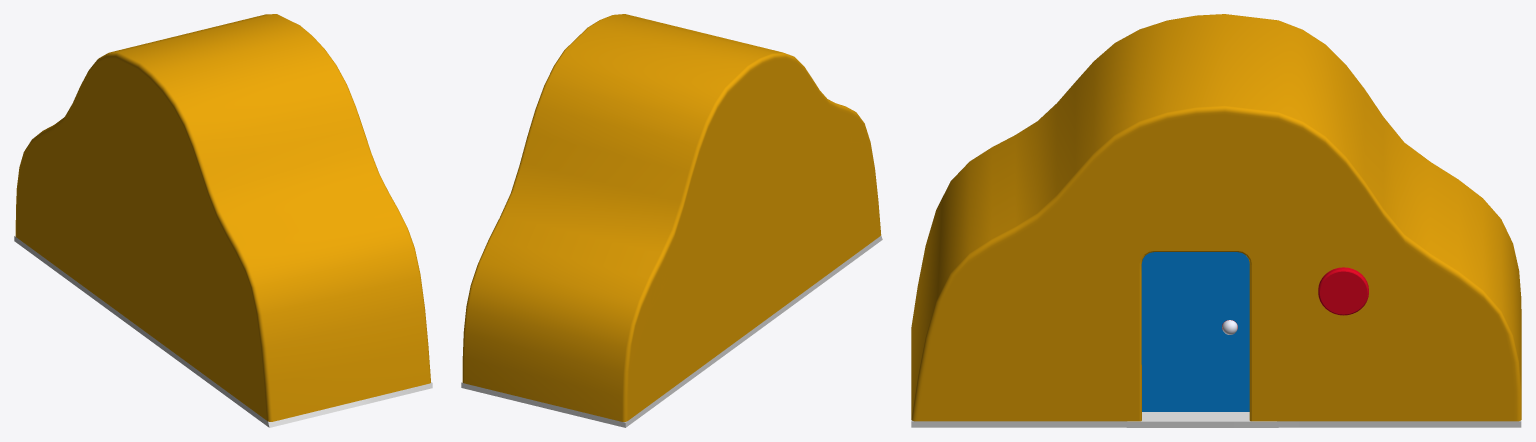
Rendered from house_NOLINES.fbx.
3 renders of one model, left to right at view 1: azimuth 30°, elevation 25°; view 2: azimuth 150°, elevation 25°; view 3: azimuth 270°, elevation 25°, orthographic. The views are drawn at different scales.
Visible parts, largest first — view 1: Cube.002, floor; view 2: Cube.002, floor; view 3: Cube.002, DOOR, floor, Cylinder.
Part boxes in pixels (bbox=[...]): Cube.002: bbox=[15, 14, 430, 421]; floor: bbox=[14, 235, 432, 427]; Cube.002: bbox=[462, 14, 881, 421]; floor: bbox=[461, 235, 882, 427]; Cube.002: bbox=[911, 14, 1521, 421]; DOOR: bbox=[1141, 252, 1249, 411]; floor: bbox=[911, 412, 1521, 427]; Cylinder: bbox=[1318, 267, 1368, 315].
Size of the model in its own units: 36.8 by 56.16 by 97.02.
